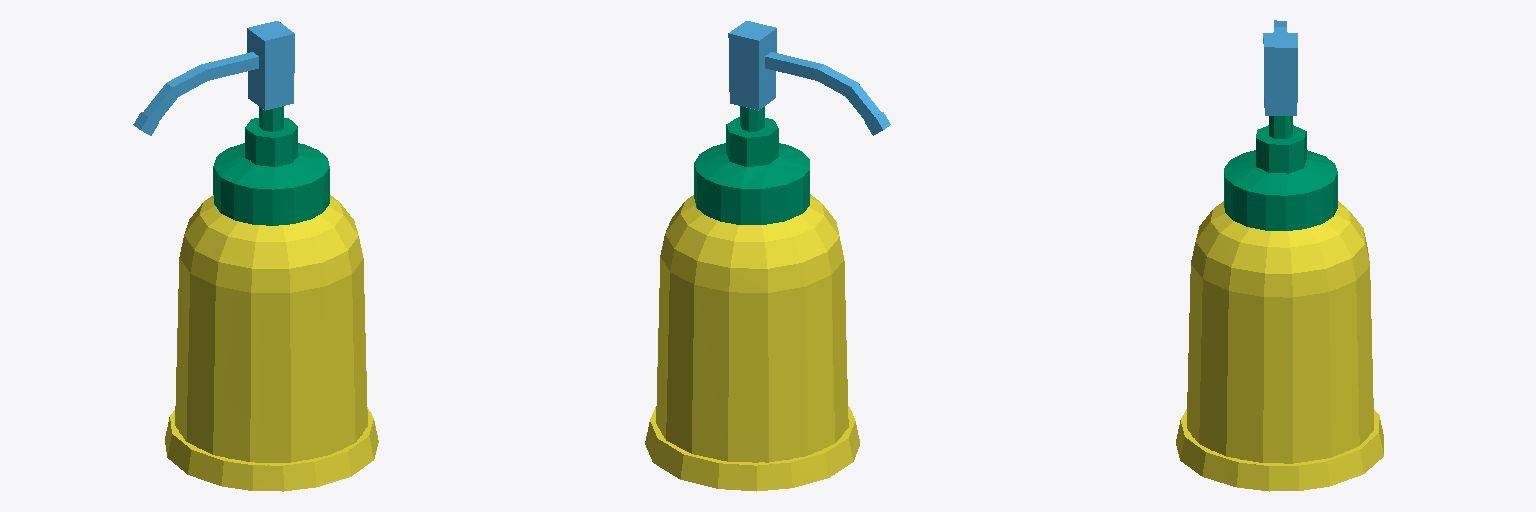
URDF robot description (partnet_cdc1cdb6-f4af-451c-a789-179ac53f8e0b):
<?xml version="1.0" ?>
<robot name="partnet_cdc1cdb6-f4af-451c-a789-179ac53f8e0b">
	<link name="base"/>
	<link name="link_0">
		<visual name="pressing_lid-1">
			<origin xyz="0.0064664486459313 0 0.010311906606261972"/>
			<geometry>
				<mesh filename="textured_objs/original_8.obj"/>
			</geometry>
		</visual>
		<visual name="pressing_lid-1">
			<origin xyz="0.0064664486459313 0 0.010311906606261972"/>
			<geometry>
				<mesh filename="textured_objs/original_10.obj"/>
			</geometry>
		</visual>
		<visual name="pressing_lid-1">
			<origin xyz="0.0064664486459313 0 0.010311906606261972"/>
			<geometry>
				<mesh filename="textured_objs/original_11.obj"/>
			</geometry>
		</visual>
		<collision>
			<origin xyz="0.0064664486459313 0 0.010311906606261972"/>
			<geometry>
				<mesh filename="textured_objs/original_8.obj"/>
			</geometry>
		</collision>
		<collision>
			<origin xyz="0.0064664486459313 0 0.010311906606261972"/>
			<geometry>
				<mesh filename="textured_objs/original_10.obj"/>
			</geometry>
		</collision>
		<collision>
			<origin xyz="0.0064664486459313 0 0.010311906606261972"/>
			<geometry>
				<mesh filename="textured_objs/original_11.obj"/>
			</geometry>
		</collision>
	</link>
	<joint name="joint_0" type="continuous">
		<origin xyz="0.0 0 0.0"/>
		<axis xyz="0 1 0"/>
		<child link="link_0"/>
		<parent link="link_0_helper"/>
	</joint>
	<link name="link_1">
		<visual name="head-3">
			<origin xyz="0.00519755423610015 0 0.01170937204032508"/>
			<geometry>
				<mesh filename="textured_objs/original_6.obj"/>
			</geometry>
		</visual>
		<collision>
			<origin xyz="0.00519755423610015 0 0.01170937204032508"/>
			<geometry>
				<mesh filename="textured_objs/original_6.obj"/>
			</geometry>
		</collision>
	</link>
	<joint name="joint_1" type="continuous">
		<origin xyz="0.0 0 0.0"/>
		<axis xyz="0 -1 0"/>
		<child link="link_1"/>
		<parent link="link_1_helper"/>
	</joint>
	<link name="link_2">
		<visual name="base_body-4">
			<origin xyz="0 0 0"/>
			<geometry>
				<mesh filename="textured_objs/original_21.obj"/>
			</geometry>
		</visual>
		<visual name="base_body-4">
			<origin xyz="0 0 0"/>
			<geometry>
				<mesh filename="textured_objs/original_4.obj"/>
			</geometry>
		</visual>
		<visual name="base_body-4">
			<origin xyz="0 0 0"/>
			<geometry>
				<mesh filename="textured_objs/original_3.obj"/>
			</geometry>
		</visual>
		<visual name="base_body-4">
			<origin xyz="0 0 0"/>
			<geometry>
				<mesh filename="textured_objs/original_2.obj"/>
			</geometry>
		</visual>
		<visual name="base_body-4">
			<origin xyz="0 0 0"/>
			<geometry>
				<mesh filename="textured_objs/original_15.obj"/>
			</geometry>
		</visual>
		<visual name="base_body-4">
			<origin xyz="0 0 0"/>
			<geometry>
				<mesh filename="textured_objs/original_18.obj"/>
			</geometry>
		</visual>
		<visual name="base_body-4">
			<origin xyz="0 0 0"/>
			<geometry>
				<mesh filename="textured_objs/original_17.obj"/>
			</geometry>
		</visual>
		<visual name="base_body-4">
			<origin xyz="0 0 0"/>
			<geometry>
				<mesh filename="textured_objs/original_12.obj"/>
			</geometry>
		</visual>
		<visual name="base_body-4">
			<origin xyz="0 0 0"/>
			<geometry>
				<mesh filename="textured_objs/original_20.obj"/>
			</geometry>
		</visual>
		<visual name="base_body-4">
			<origin xyz="0 0 0"/>
			<geometry>
				<mesh filename="textured_objs/original_7.obj"/>
			</geometry>
		</visual>
		<visual name="base_body-4">
			<origin xyz="0 0 0"/>
			<geometry>
				<mesh filename="textured_objs/original_1.obj"/>
			</geometry>
		</visual>
		<visual name="base_body-4">
			<origin xyz="0 0 0"/>
			<geometry>
				<mesh filename="textured_objs/original_14.obj"/>
			</geometry>
		</visual>
		<collision>
			<origin xyz="0 0 0"/>
			<geometry>
				<mesh filename="textured_objs/original_21.obj"/>
			</geometry>
		</collision>
		<collision>
			<origin xyz="0 0 0"/>
			<geometry>
				<mesh filename="textured_objs/original_4.obj"/>
			</geometry>
		</collision>
		<collision>
			<origin xyz="0 0 0"/>
			<geometry>
				<mesh filename="textured_objs/original_3.obj"/>
			</geometry>
		</collision>
		<collision>
			<origin xyz="0 0 0"/>
			<geometry>
				<mesh filename="textured_objs/original_2.obj"/>
			</geometry>
		</collision>
		<collision>
			<origin xyz="0 0 0"/>
			<geometry>
				<mesh filename="textured_objs/original_15.obj"/>
			</geometry>
		</collision>
		<collision>
			<origin xyz="0 0 0"/>
			<geometry>
				<mesh filename="textured_objs/original_18.obj"/>
			</geometry>
		</collision>
		<collision>
			<origin xyz="0 0 0"/>
			<geometry>
				<mesh filename="textured_objs/original_17.obj"/>
			</geometry>
		</collision>
		<collision>
			<origin xyz="0 0 0"/>
			<geometry>
				<mesh filename="textured_objs/original_12.obj"/>
			</geometry>
		</collision>
		<collision>
			<origin xyz="0 0 0"/>
			<geometry>
				<mesh filename="textured_objs/original_20.obj"/>
			</geometry>
		</collision>
		<collision>
			<origin xyz="0 0 0"/>
			<geometry>
				<mesh filename="textured_objs/original_7.obj"/>
			</geometry>
		</collision>
		<collision>
			<origin xyz="0 0 0"/>
			<geometry>
				<mesh filename="textured_objs/original_1.obj"/>
			</geometry>
		</collision>
		<collision>
			<origin xyz="0 0 0"/>
			<geometry>
				<mesh filename="textured_objs/original_14.obj"/>
			</geometry>
		</collision>
	</link>
	<joint name="joint_2" type="fixed">
		<origin rpy="1.570796326794897 0 -1.570796326794897" xyz="0 0 0"/>
		<child link="link_2"/>
		<parent link="base"/>
	</joint>
	<link name="link_0_helper">
		<inertial>
			<origin xyz="0 0 0"/>
			<mass value="1e-6"/>
			<inertia ixx="1e-10" ixy="0" ixz="0" iyy="1e-10" iyz="0" izz="1e-10"/>
		</inertial>
	</link>
	<joint name="joint_3" type="prismatic">
		<origin xyz="-0.0012688944098311504 0 0.0013974654340631072"/>
		<axis xyz="0 -1 0"/>
		<child link="link_0_helper"/>
		<parent link="link_1"/>
		<limit lower="0" upper="0.1"/>
	</joint>
	<link name="link_1_helper">
		<inertial>
			<origin xyz="0 0 0"/>
			<mass value="1e-6"/>
			<inertia ixx="1e-10" ixy="0" ixz="0" iyy="1e-10" iyz="0" izz="1e-10"/>
		</inertial>
	</link>
	<joint name="joint_4" type="prismatic">
		<origin xyz="-0.00519755423610015 0 -0.01170937204032508"/>
		<axis xyz="0 1 0"/>
		<child link="link_1_helper"/>
		<parent link="link_2"/>
		<limit lower="0" upper="0.1279999999999999"/>
	</joint>
</robot>

--- What the picture shows (computed from the rendered views, not written in the file) ---
The picture shows the robot from 3 angles, left to right: view 1: azimuth 30°, elevation 25°; view 2: azimuth 150°, elevation 25°; view 3: azimuth 270°, elevation 25°; orthographic projection.
Model partnet_cdc1cdb6-f4af-451c-a789-179ac53f8e0b with 6 links and 5 joints (2 continuous, 2 prismatic, 1 fixed), rooted at base, posed every joint at zero.
Links seen in each view (by area): view 1: link_2, link_1, link_0; view 2: link_2, link_1, link_0; view 3: link_2, link_1, link_0.
Boxes of the visible links, <box> form: link_2: <box>165,160,378,491</box>; link_1: <box>213,106,329,225</box>; link_0: <box>133,21,294,135</box>; link_2: <box>645,194,859,491</box>; link_1: <box>694,106,809,224</box>; link_0: <box>728,21,890,135</box>; link_2: <box>1176,201,1383,491</box>; link_1: <box>1224,116,1337,230</box>; link_0: <box>1263,20,1297,115</box>.
Bounding box of the posed robot: 0.8972 × 0.7274 × 1.57 m (x, y, z).
16 mesh visuals loaded from 16 distinct referenced files (16 OBJ).
